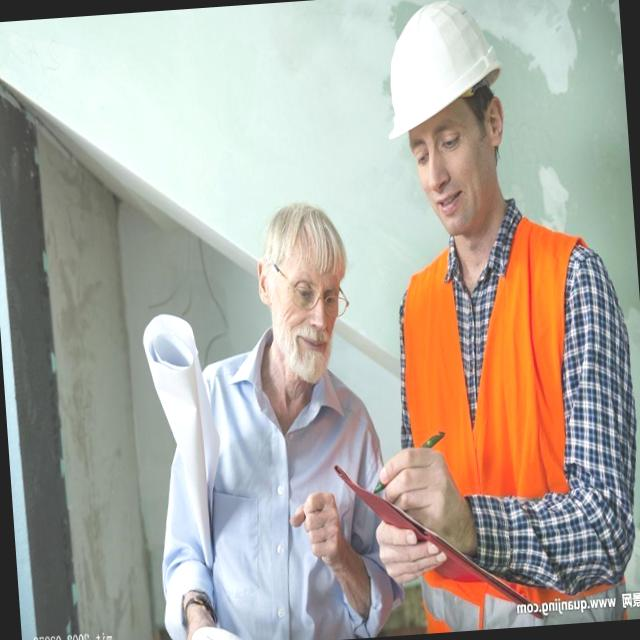helmet: (367, 0, 510, 142)
no-goggles: (381, 114, 504, 176)
no-helmet: (252, 198, 350, 294)
no-vest: (176, 368, 375, 640)
vest: (390, 218, 618, 634)
